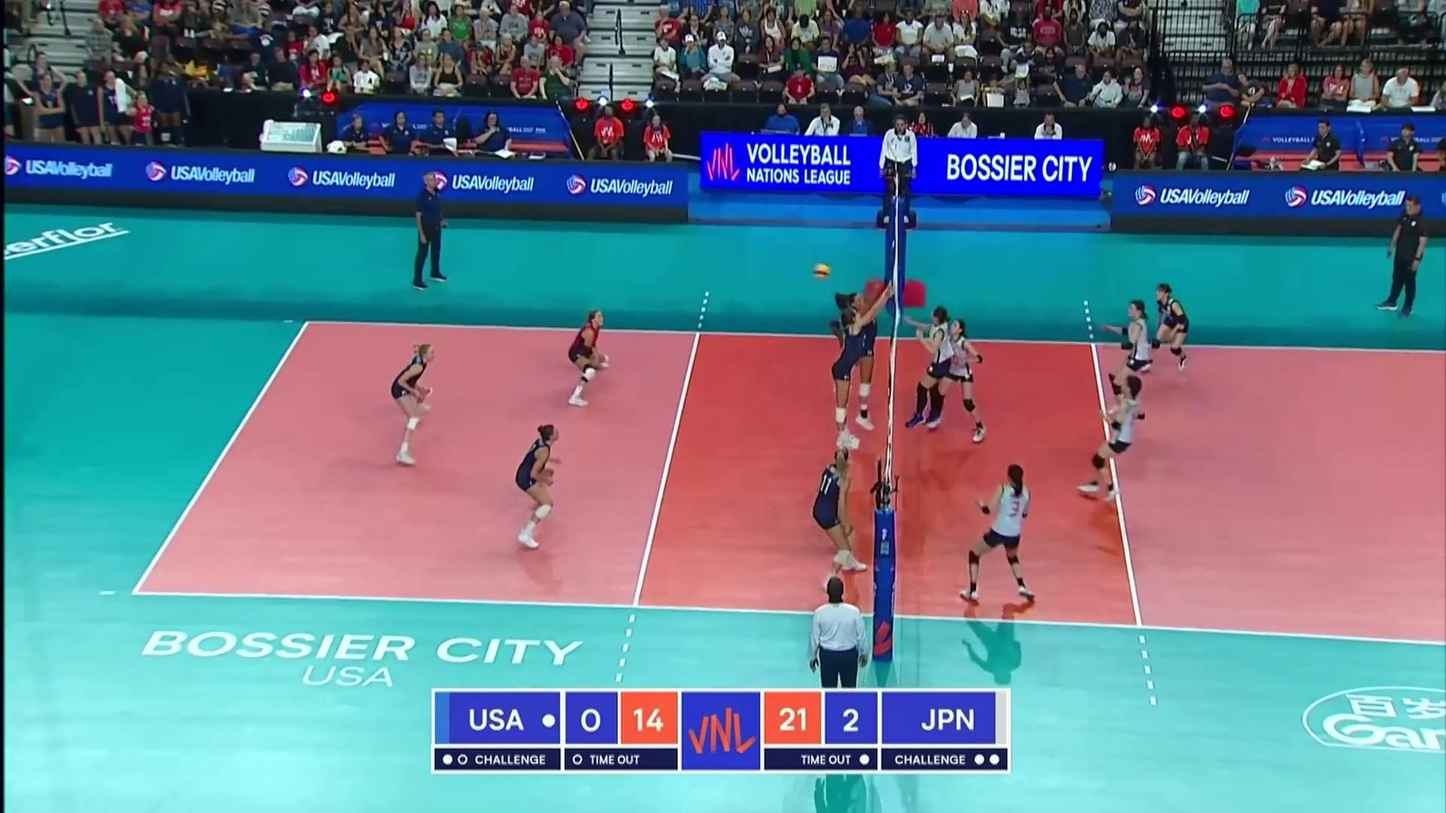player: (958, 462, 1039, 606), (1078, 375, 1144, 510), (804, 441, 864, 582), (824, 309, 877, 450), (505, 428, 563, 552), (932, 312, 986, 441), (837, 289, 883, 430), (1107, 300, 1156, 431), (389, 345, 439, 469), (904, 306, 954, 428), (561, 311, 611, 410), (1146, 284, 1196, 374)
refree: (804, 581, 878, 690), (876, 111, 918, 229)
